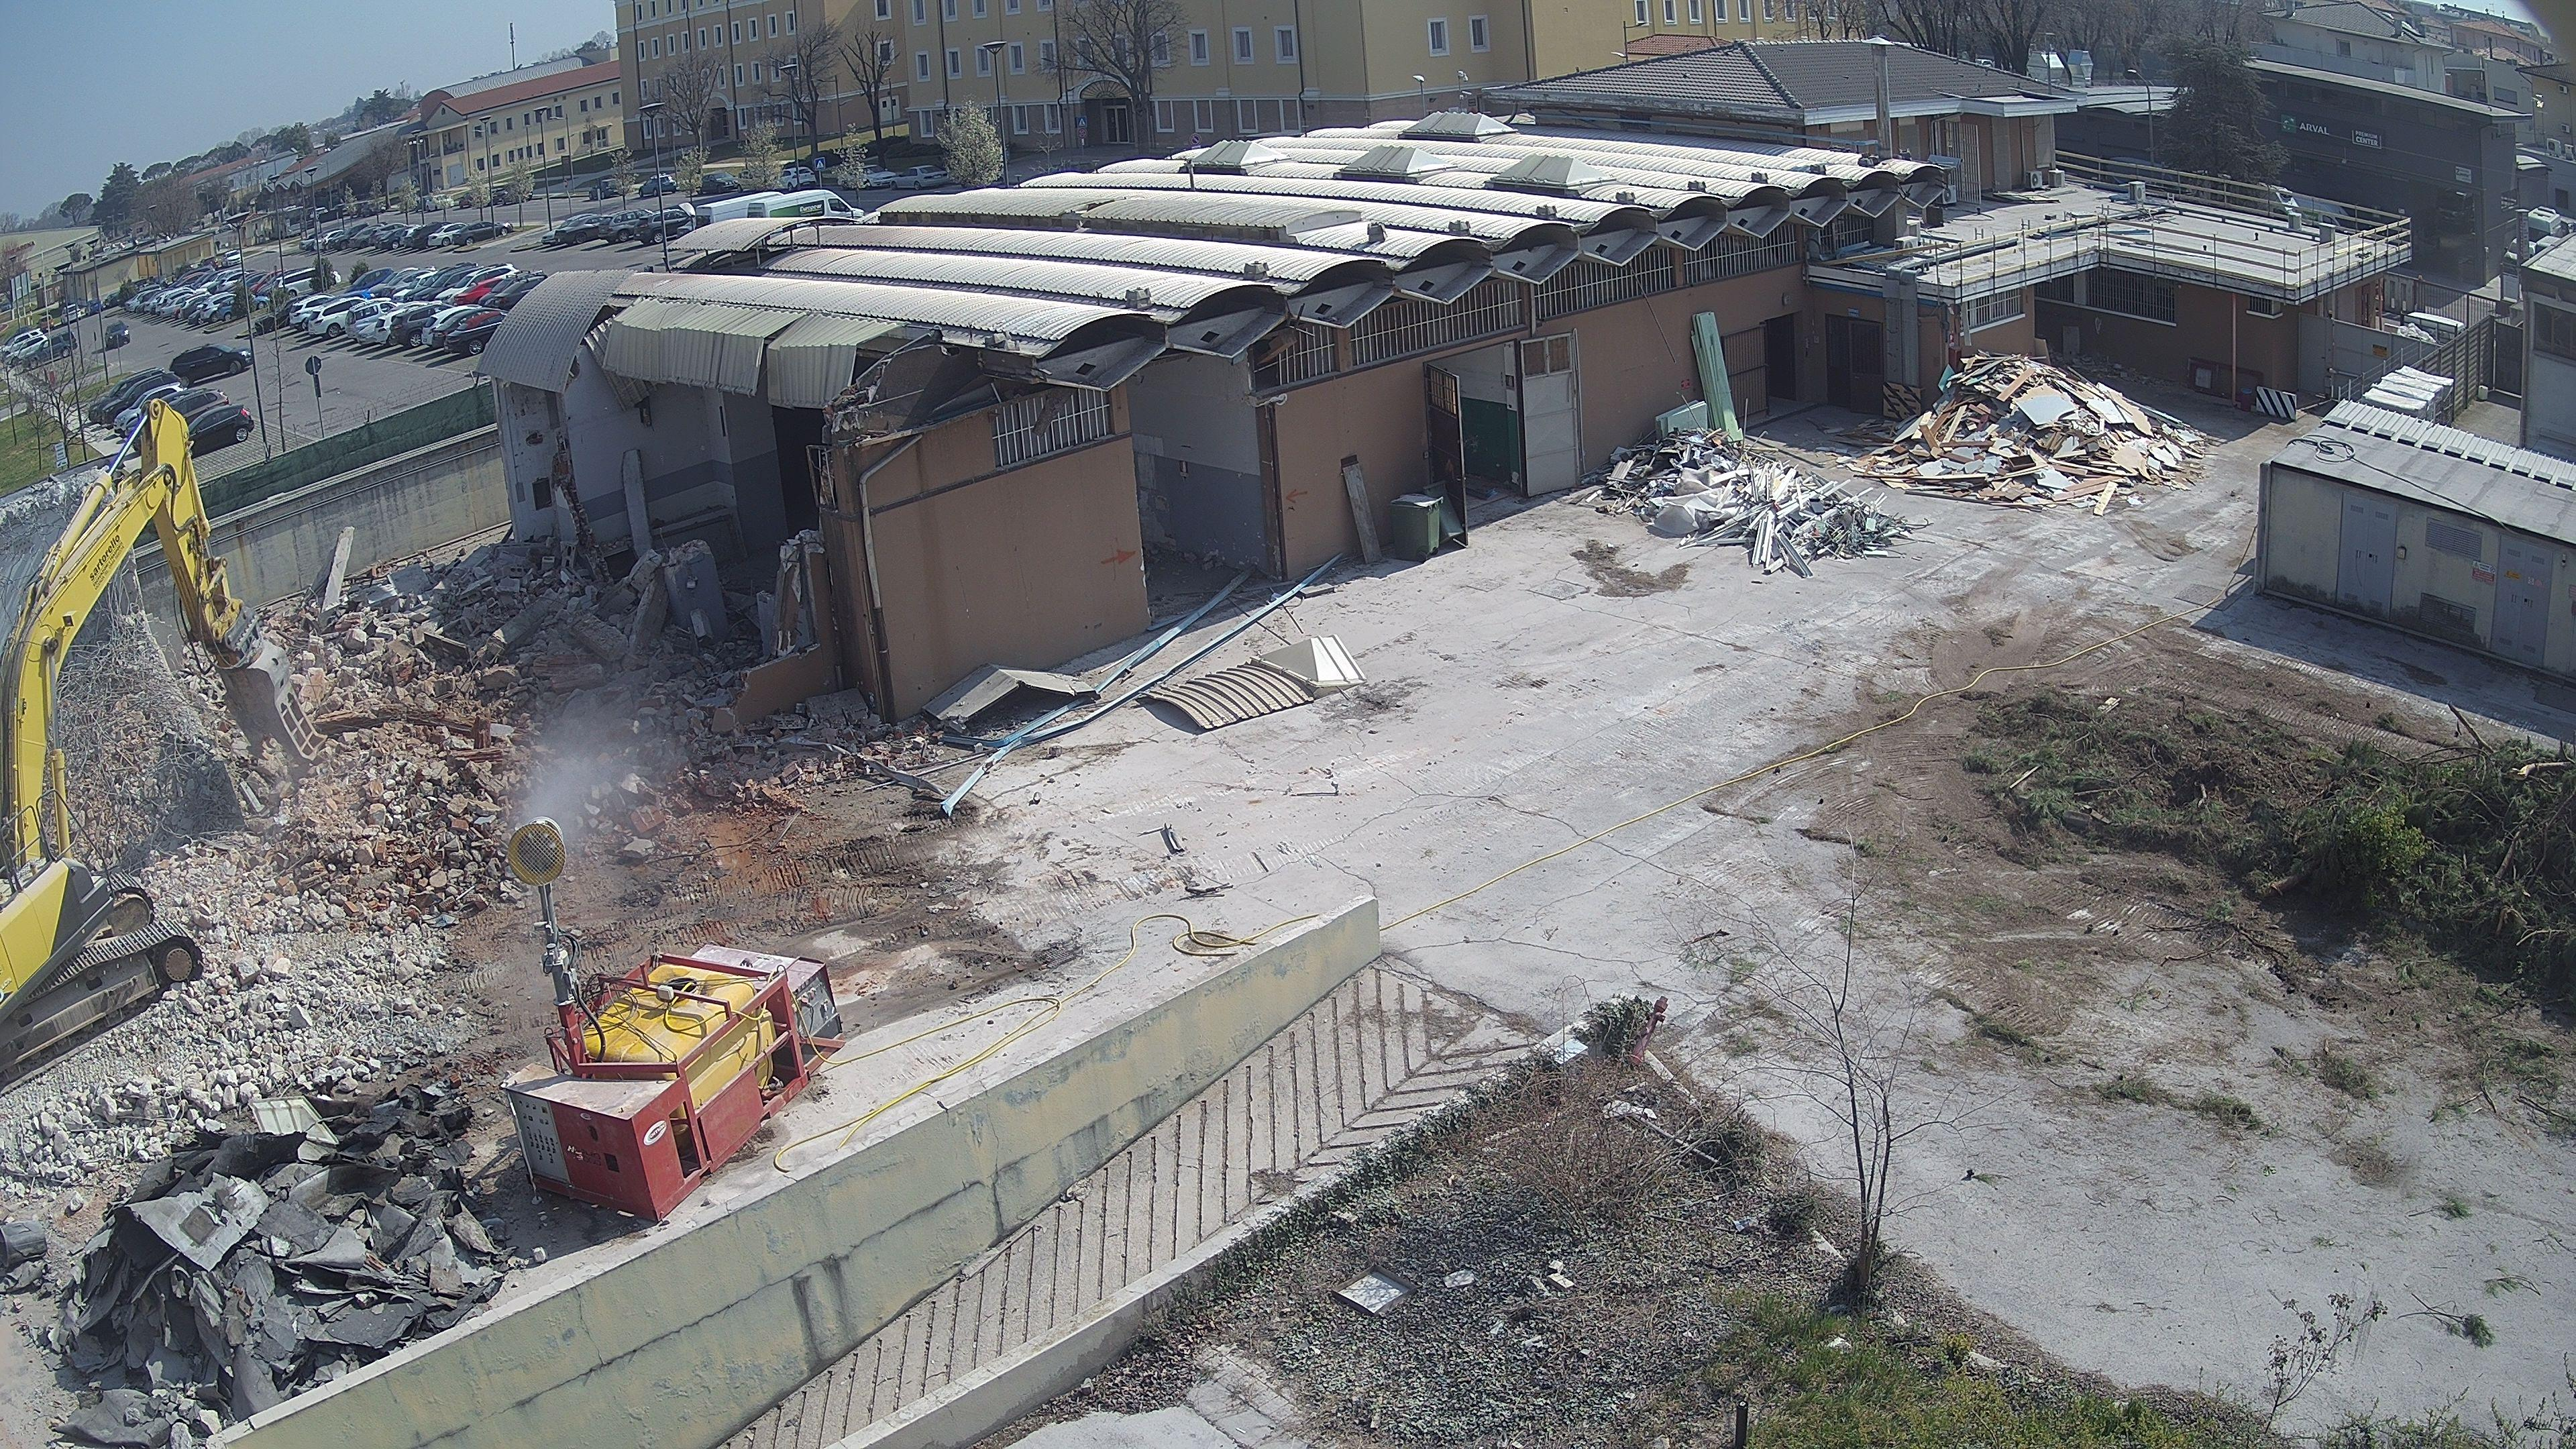Cars: (183, 403, 256, 456), (168, 343, 254, 387), (390, 303, 454, 348), (443, 312, 506, 356), (345, 298, 405, 341), (307, 297, 366, 340), (21, 329, 78, 370), (633, 209, 690, 244), (598, 209, 654, 243), (289, 295, 333, 332), (837, 164, 896, 191), (890, 165, 951, 190), (553, 215, 604, 245), (451, 221, 513, 246), (5, 334, 49, 367), (1, 328, 43, 355), (771, 167, 816, 191), (696, 172, 738, 194), (428, 223, 466, 247), (638, 174, 677, 197), (104, 321, 131, 349), (588, 178, 623, 199), (60, 304, 82, 325), (219, 250, 241, 267), (85, 299, 103, 315), (36, 315, 54, 330)
excavator: (0, 400, 331, 1098)
